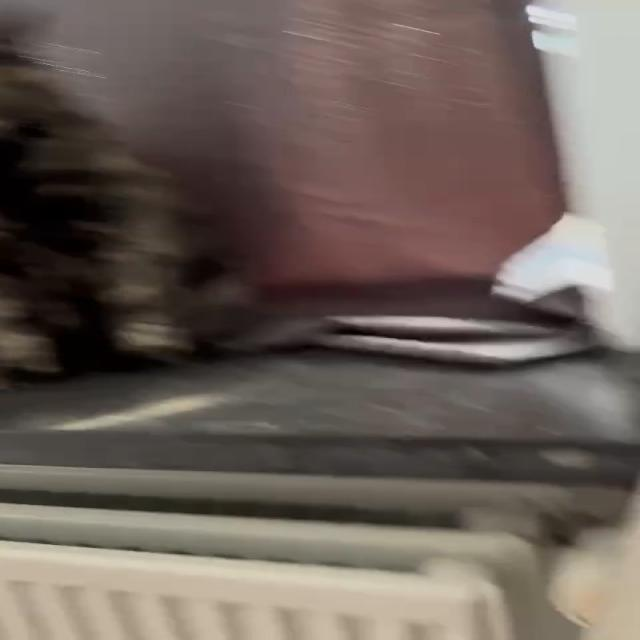authorized: (0, 7, 292, 383)
